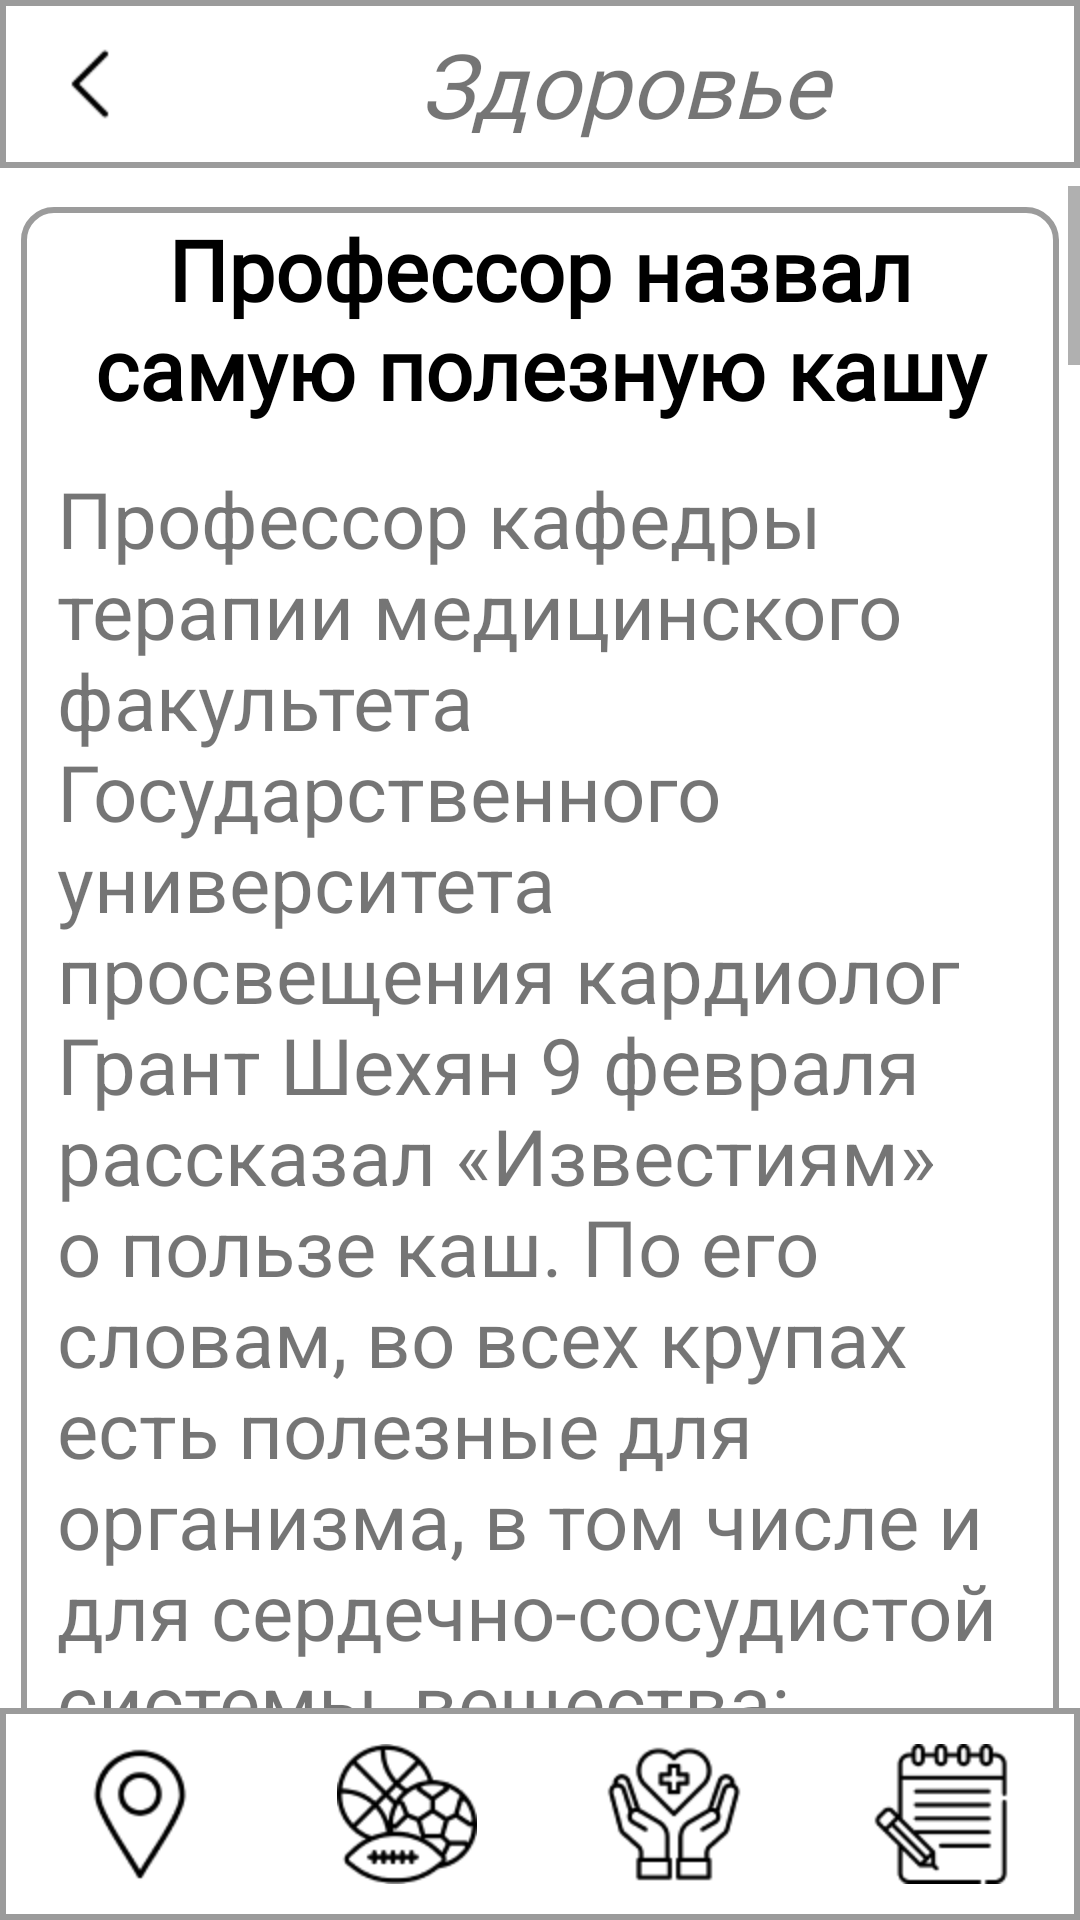

Named icons in this screenshot (1080x1920) and their bounding boxes, (x1, y1, x2, y2):
Добавить заметку: (807, 1714, 1074, 1914)
Здоровье: (607, 1747, 741, 1881)
Карта магазинов: (6, 1714, 273, 1914)
Спорт: (337, 1744, 477, 1884)
